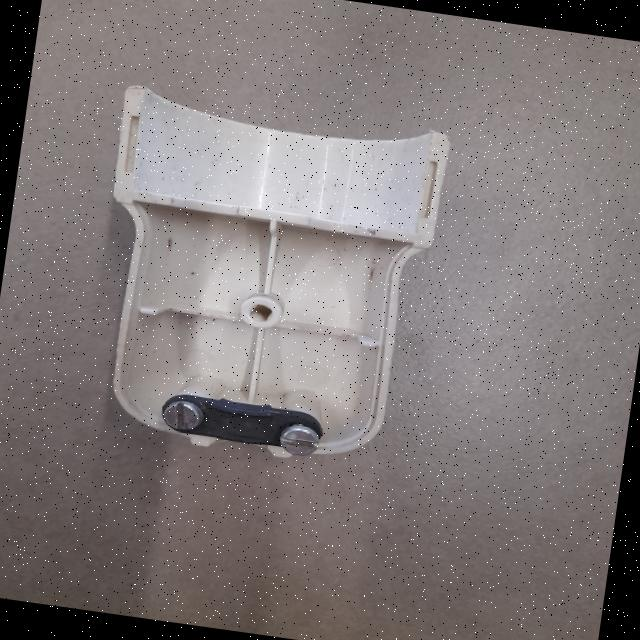Slotted: (275, 422, 322, 458), (162, 398, 204, 434)
